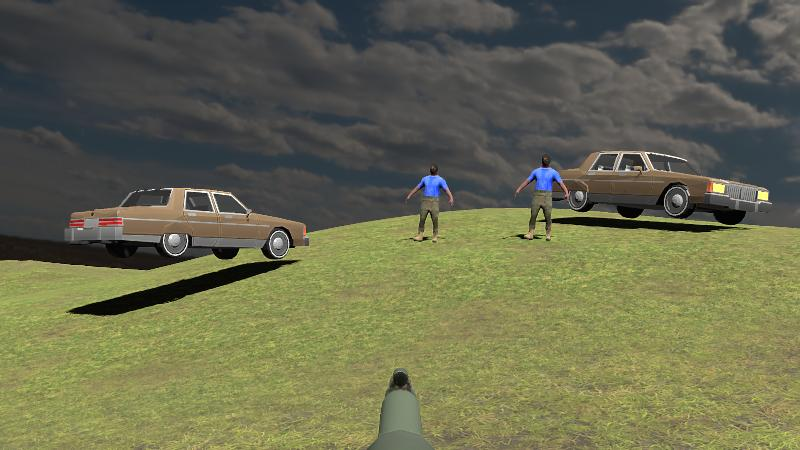Human: (515, 152, 569, 241), (406, 163, 453, 243)
car: (63, 186, 310, 260), (550, 149, 774, 224)
